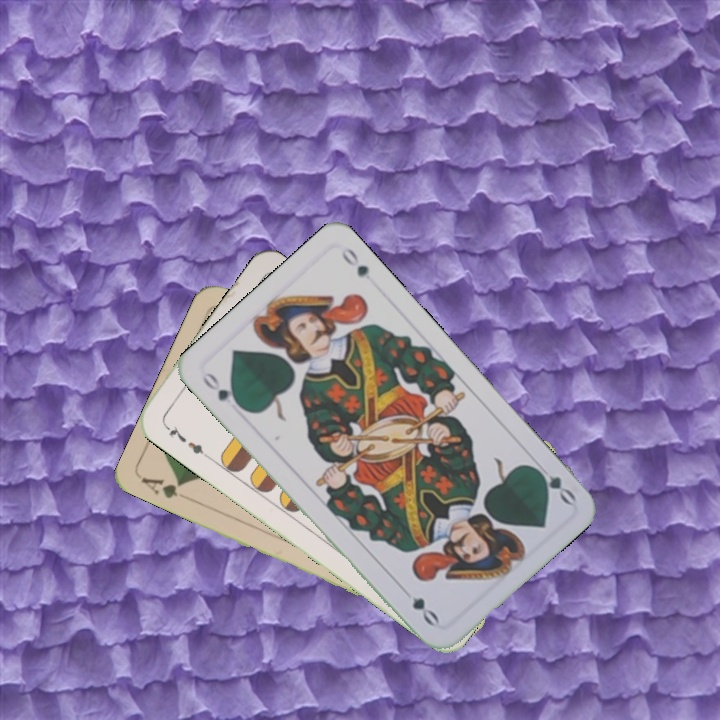E7: (160, 420, 210, 460)
GA: (137, 472, 186, 501)
GO: (528, 458, 579, 508), (198, 367, 246, 412)
